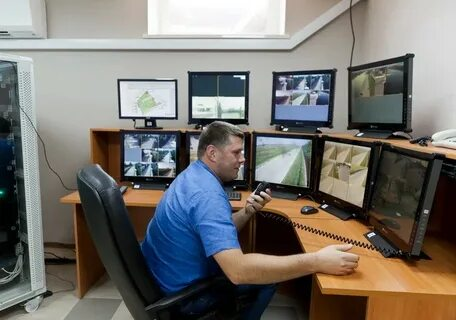awake: (140, 120, 280, 320)
